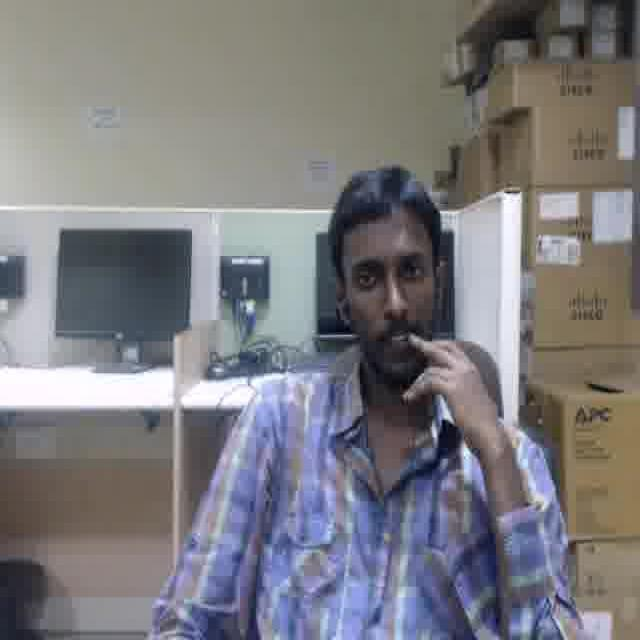Confusion: (342, 219, 430, 364)
